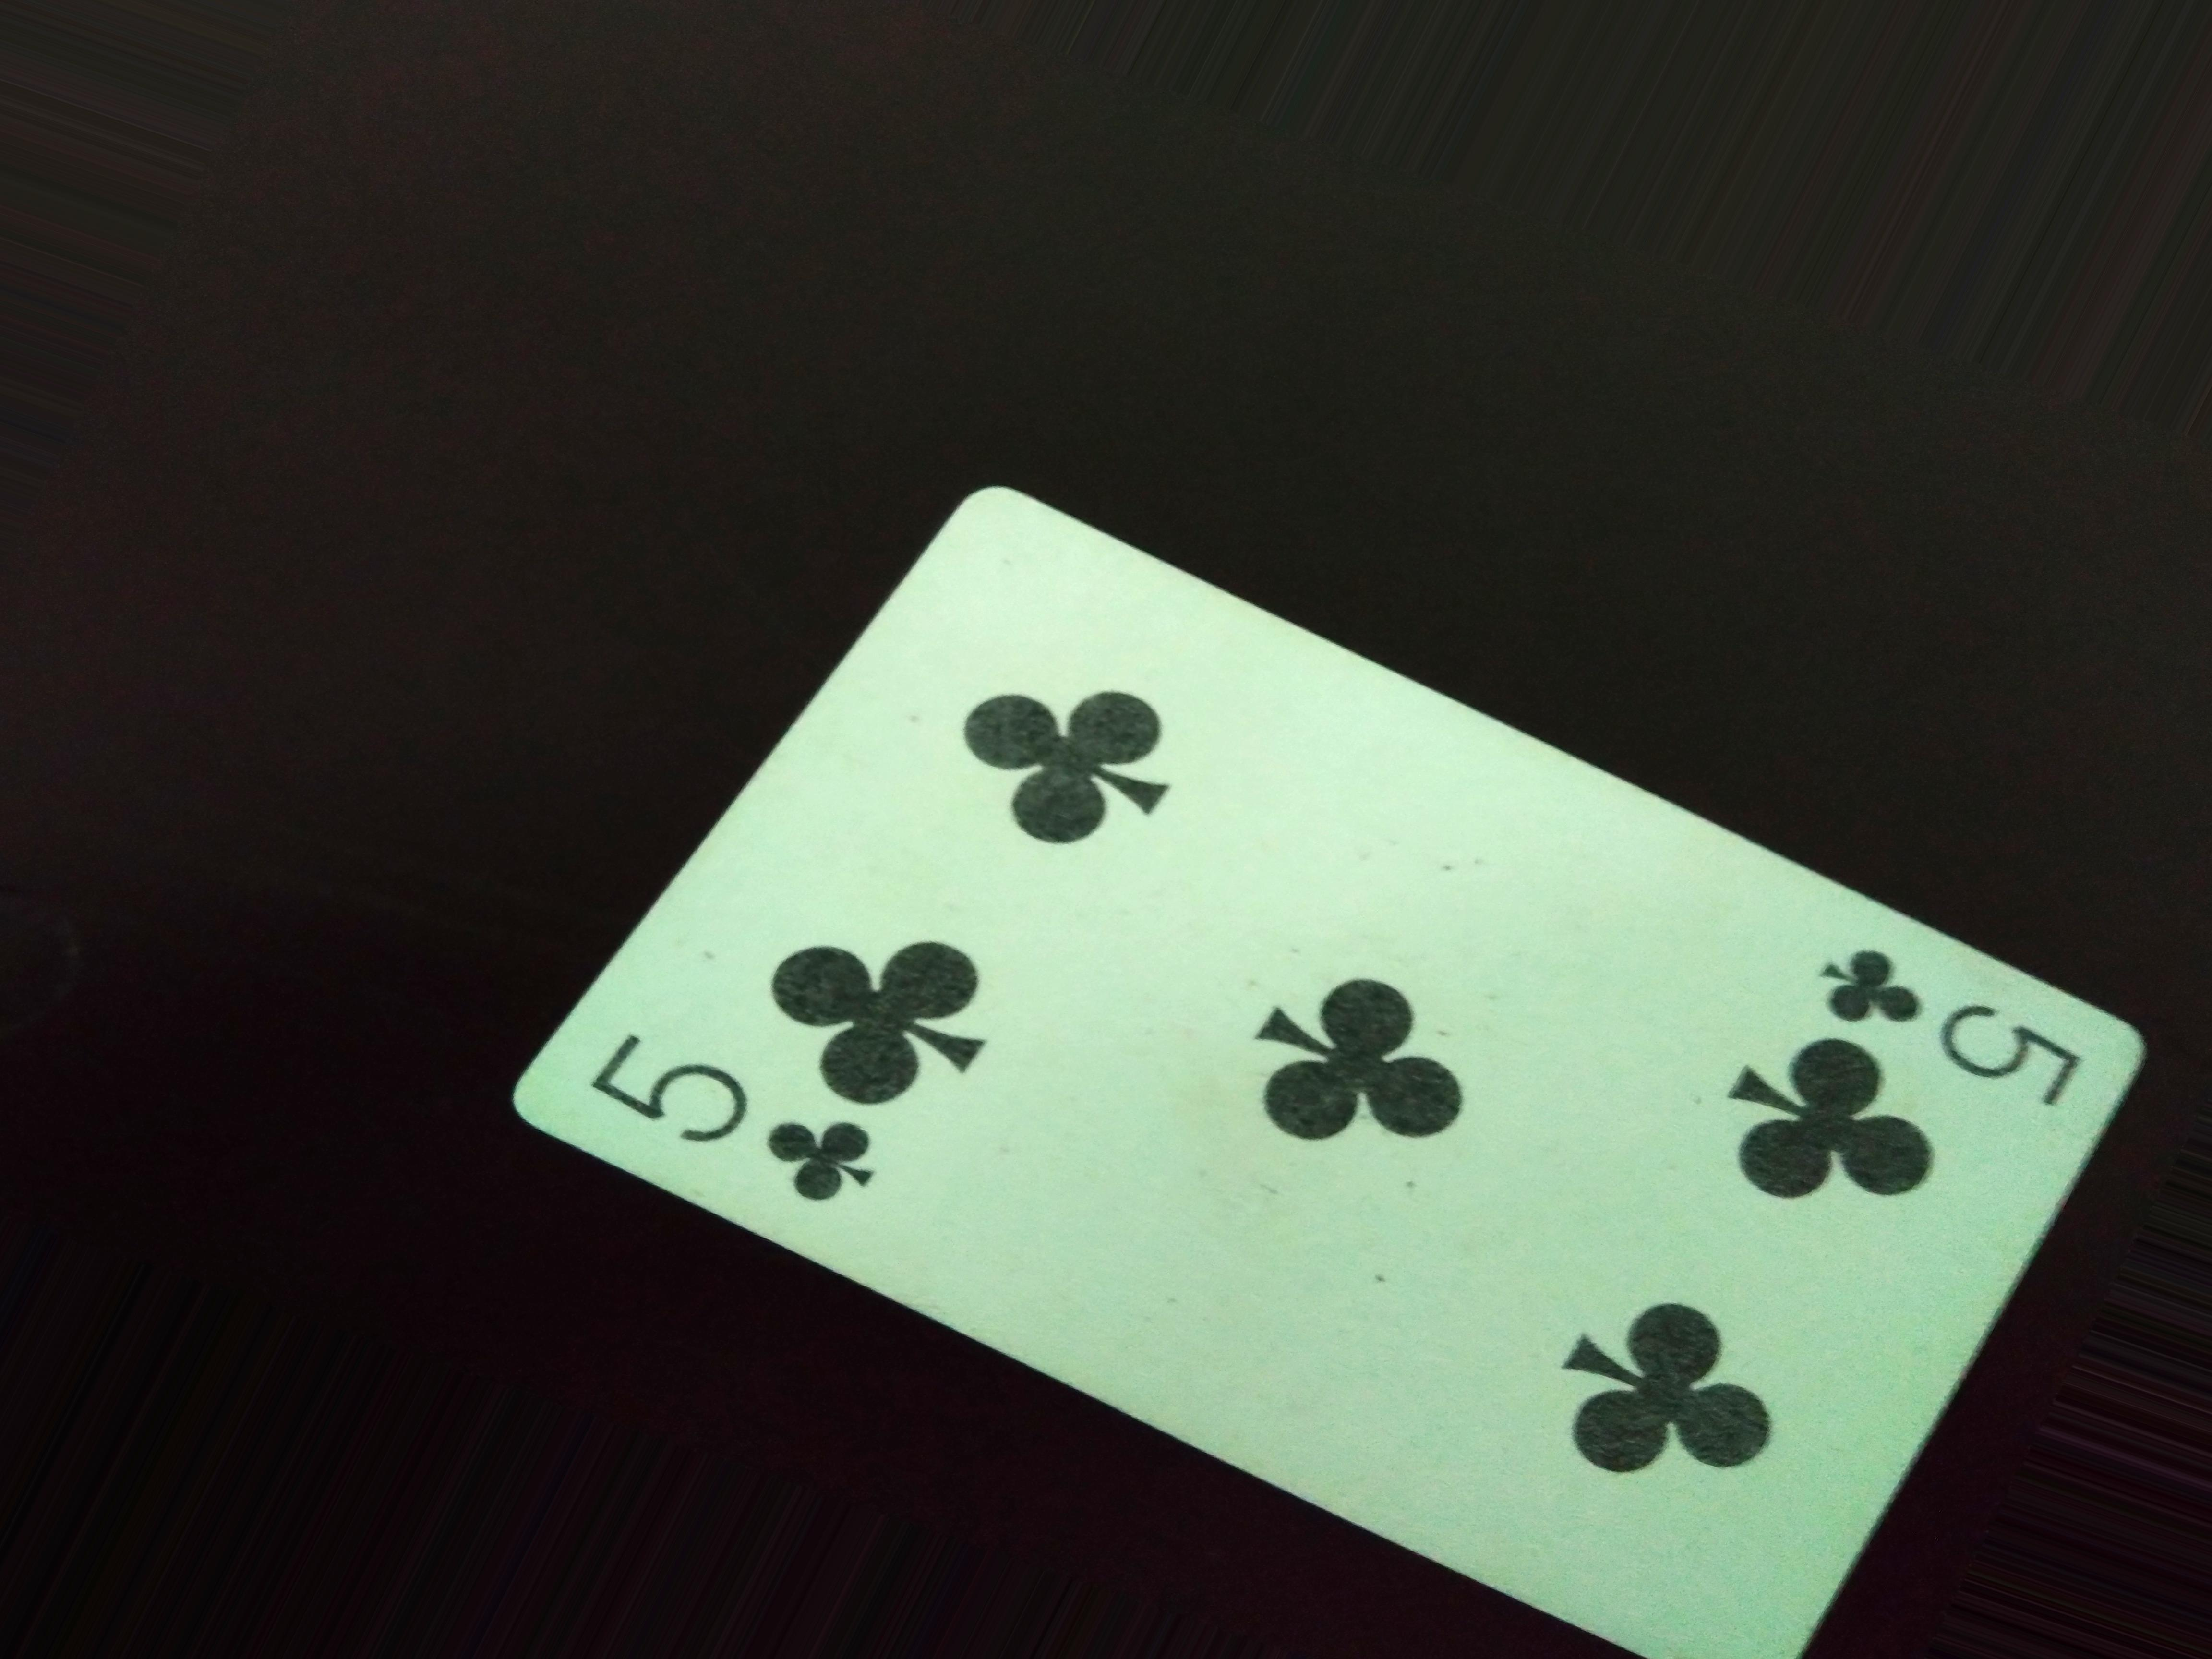5C: (580, 1026, 887, 1225)
